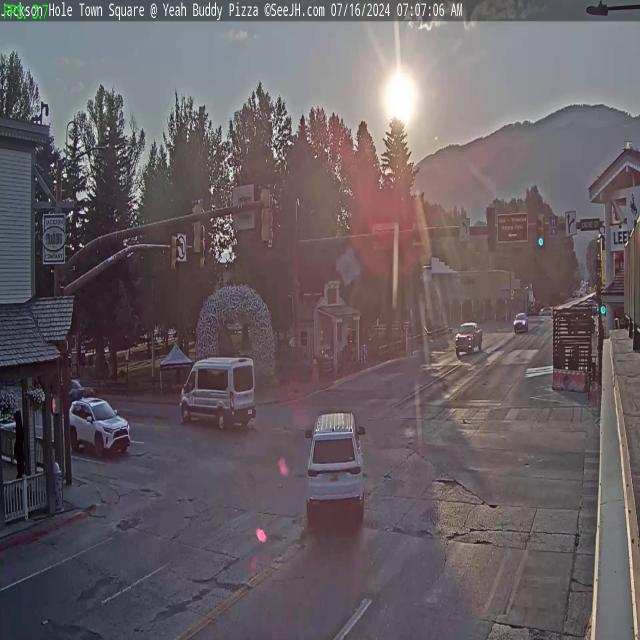pickup: (456, 321, 482, 356)
sedan: (512, 312, 529, 333)
suv: (303, 410, 368, 520), (68, 396, 131, 461)
traffic light: (260, 184, 274, 245), (190, 199, 203, 254), (170, 231, 180, 276), (487, 206, 496, 250), (536, 214, 546, 248), (200, 237, 208, 273)
van: (177, 352, 258, 436)
